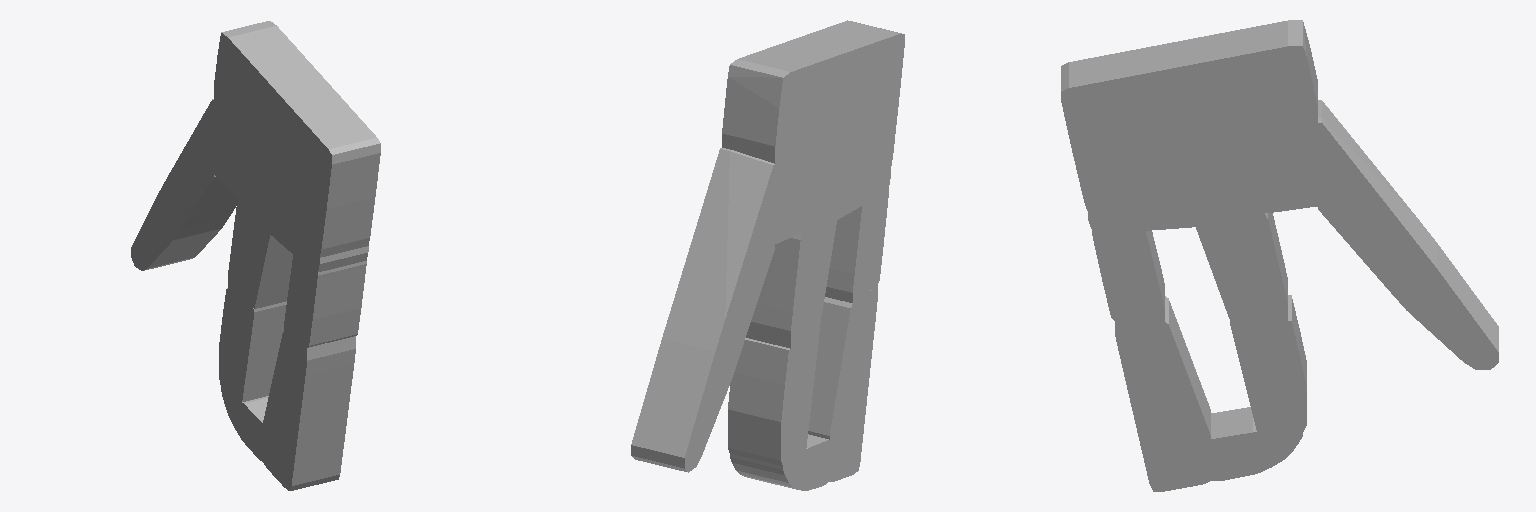
URDF robot description (root):
<robot name="root">
  <link name="link_2ef8bb988311eca37536da783d466469_convex_piece_0">
    <inertial>
      <origin rpy="0 0 0" xyz="0 0 0"/>
      <mass value="7.74E-07"/>
      <inertia ixx="1.40E-10" ixy="6.71E-13" ixz="1.32E-13" iyy="3.01E-11" iyz="4.56E-12" izz="1.15E-10"/>
    </inertial>
    <visual>
      <origin rpy="0 0 0" xyz="0 0 0"/>
      <geometry>
        <mesh filename="2ef8bb988311eca37536da783d466469_convex_piece_0.obj" scale="1.0000E+00"/>
      </geometry>
      <material name="">
        <color rgba="7.50E-01 7.50E-01 7.50E-01 1"/>
      </material>
    </visual>
    <collision>
      <origin rpy="0 0 0" xyz="0 0 0"/>
      <geometry>
        <mesh filename="2ef8bb988311eca37536da783d466469_convex_piece_0.obj" scale="1.0000E+00"/>
      </geometry>
    </collision>
  </link>
  <link name="link_2ef8bb988311eca37536da783d466469_convex_piece_1">
    <inertial>
      <origin rpy="0 0 0" xyz="0 0 0"/>
      <mass value="2.16E-06"/>
      <inertia ixx="7.16E-10" ixy="-1.08E-12" ixz="2.06E-12" iyy="5.22E-10" iyz="-2.21E-10" izz="2.09E-10"/>
    </inertial>
    <visual>
      <origin rpy="0 0 0" xyz="0 0 0"/>
      <geometry>
        <mesh filename="2ef8bb988311eca37536da783d466469_convex_piece_1.obj" scale="1.0000E+00"/>
      </geometry>
      <material name="">
        <color rgba="7.50E-01 7.50E-01 7.50E-01 1"/>
      </material>
    </visual>
    <collision>
      <origin rpy="0 0 0" xyz="0 0 0"/>
      <geometry>
        <mesh filename="2ef8bb988311eca37536da783d466469_convex_piece_1.obj" scale="1.0000E+00"/>
      </geometry>
    </collision>
  </link>
  <joint name="link_2ef8bb988311eca37536da783d466469_convex_piece_1_joint" type="fixed">
    <origin rpy="0 0 0" xyz="0 0 0"/>
    <parent link="link_2ef8bb988311eca37536da783d466469_convex_piece_0"/>
    <child link="link_2ef8bb988311eca37536da783d466469_convex_piece_1"/>
  </joint>
  <link name="link_2ef8bb988311eca37536da783d466469_convex_piece_2">
    <inertial>
      <origin rpy="0 0 0" xyz="0 0 0"/>
      <mass value="6.49E-07"/>
      <inertia ixx="2.52E-10" ixy="-4.83E-13" ixz="-6.76E-13" iyy="1.76E-10" iyz="1.32E-10" izz="8.08E-11"/>
    </inertial>
    <visual>
      <origin rpy="0 0 0" xyz="0 0 0"/>
      <geometry>
        <mesh filename="2ef8bb988311eca37536da783d466469_convex_piece_2.obj" scale="1.0000E+00"/>
      </geometry>
      <material name="">
        <color rgba="7.50E-01 7.50E-01 7.50E-01 1"/>
      </material>
    </visual>
    <collision>
      <origin rpy="0 0 0" xyz="0 0 0"/>
      <geometry>
        <mesh filename="2ef8bb988311eca37536da783d466469_convex_piece_2.obj" scale="1.0000E+00"/>
      </geometry>
    </collision>
  </link>
  <joint name="link_2ef8bb988311eca37536da783d466469_convex_piece_2_joint" type="fixed">
    <origin rpy="0 0 0" xyz="0 0 0"/>
    <parent link="link_2ef8bb988311eca37536da783d466469_convex_piece_1"/>
    <child link="link_2ef8bb988311eca37536da783d466469_convex_piece_2"/>
  </joint>
  <link name="link_2ef8bb988311eca37536da783d466469_convex_piece_3">
    <inertial>
      <origin rpy="0 0 0" xyz="0 0 0"/>
      <mass value="4.42E-07"/>
      <inertia ixx="-4.57E-12" ixy="-9.09E-14" ixz="2.99E-15" iyy="1.33E-12" iyz="6.41E-12" izz="-2.89E-12"/>
    </inertial>
    <visual>
      <origin rpy="0 0 0" xyz="0 0 0"/>
      <geometry>
        <mesh filename="2ef8bb988311eca37536da783d466469_convex_piece_3.obj" scale="1.0000E+00"/>
      </geometry>
      <material name="">
        <color rgba="7.50E-01 7.50E-01 7.50E-01 1"/>
      </material>
    </visual>
    <collision>
      <origin rpy="0 0 0" xyz="0 0 0"/>
      <geometry>
        <mesh filename="2ef8bb988311eca37536da783d466469_convex_piece_3.obj" scale="1.0000E+00"/>
      </geometry>
    </collision>
  </link>
  <joint name="link_2ef8bb988311eca37536da783d466469_convex_piece_3_joint" type="fixed">
    <origin rpy="0 0 0" xyz="0 0 0"/>
    <parent link="link_2ef8bb988311eca37536da783d466469_convex_piece_2"/>
    <child link="link_2ef8bb988311eca37536da783d466469_convex_piece_3"/>
  </joint>
  <link name="link_2ef8bb988311eca37536da783d466469_convex_piece_4">
    <inertial>
      <origin rpy="0 0 0" xyz="0 0 0"/>
      <mass value="1.95E-07"/>
      <inertia ixx="8.31E-11" ixy="-3.24E-14" ixz="-2.71E-13" iyy="8.63E-11" iyz="1.66E-11" izz="-1.87E-12"/>
    </inertial>
    <visual>
      <origin rpy="0 0 0" xyz="0 0 0"/>
      <geometry>
        <mesh filename="2ef8bb988311eca37536da783d466469_convex_piece_4.obj" scale="1.0000E+00"/>
      </geometry>
      <material name="">
        <color rgba="7.50E-01 7.50E-01 7.50E-01 1"/>
      </material>
    </visual>
    <collision>
      <origin rpy="0 0 0" xyz="0 0 0"/>
      <geometry>
        <mesh filename="2ef8bb988311eca37536da783d466469_convex_piece_4.obj" scale="1.0000E+00"/>
      </geometry>
    </collision>
  </link>
  <joint name="link_2ef8bb988311eca37536da783d466469_convex_piece_4_joint" type="fixed">
    <origin rpy="0 0 0" xyz="0 0 0"/>
    <parent link="link_2ef8bb988311eca37536da783d466469_convex_piece_3"/>
    <child link="link_2ef8bb988311eca37536da783d466469_convex_piece_4"/>
  </joint>
  <link name="link_2ef8bb988311eca37536da783d466469_convex_piece_5">
    <inertial>
      <origin rpy="0 0 0" xyz="0 0 0"/>
      <mass value="3.95E-07"/>
      <inertia ixx="4.90E-11" ixy="-7.15E-15" ixz="-3.20E-13" iyy="5.99E-11" iyz="1.02E-11" izz="-8.23E-12"/>
    </inertial>
    <visual>
      <origin rpy="0 0 0" xyz="0 0 0"/>
      <geometry>
        <mesh filename="2ef8bb988311eca37536da783d466469_convex_piece_5.obj" scale="1.0000E+00"/>
      </geometry>
      <material name="">
        <color rgba="7.50E-01 7.50E-01 7.50E-01 1"/>
      </material>
    </visual>
    <collision>
      <origin rpy="0 0 0" xyz="0 0 0"/>
      <geometry>
        <mesh filename="2ef8bb988311eca37536da783d466469_convex_piece_5.obj" scale="1.0000E+00"/>
      </geometry>
    </collision>
  </link>
  <joint name="link_2ef8bb988311eca37536da783d466469_convex_piece_5_joint" type="fixed">
    <origin rpy="0 0 0" xyz="0 0 0"/>
    <parent link="link_2ef8bb988311eca37536da783d466469_convex_piece_4"/>
    <child link="link_2ef8bb988311eca37536da783d466469_convex_piece_5"/>
  </joint>
  <link name="link_2ef8bb988311eca37536da783d466469_convex_piece_6">
    <inertial>
      <origin rpy="0 0 0" xyz="0 0 0"/>
      <mass value="2.99E-07"/>
      <inertia ixx="6.46E-11" ixy="-2.93E-13" ixz="-2.14E-14" iyy="-4.45E-14" iyz="8.94E-12" izz="6.67E-11"/>
    </inertial>
    <visual>
      <origin rpy="0 0 0" xyz="0 0 0"/>
      <geometry>
        <mesh filename="2ef8bb988311eca37536da783d466469_convex_piece_6.obj" scale="1.0000E+00"/>
      </geometry>
      <material name="">
        <color rgba="7.50E-01 7.50E-01 7.50E-01 1"/>
      </material>
    </visual>
    <collision>
      <origin rpy="0 0 0" xyz="0 0 0"/>
      <geometry>
        <mesh filename="2ef8bb988311eca37536da783d466469_convex_piece_6.obj" scale="1.0000E+00"/>
      </geometry>
    </collision>
  </link>
  <joint name="link_2ef8bb988311eca37536da783d466469_convex_piece_6_joint" type="fixed">
    <origin rpy="0 0 0" xyz="0 0 0"/>
    <parent link="link_2ef8bb988311eca37536da783d466469_convex_piece_5"/>
    <child link="link_2ef8bb988311eca37536da783d466469_convex_piece_6"/>
  </joint>
  <link name="link_2ef8bb988311eca37536da783d466469_convex_piece_7">
    <inertial>
      <origin rpy="0 0 0" xyz="0 0 0"/>
      <mass value="1.06E-07"/>
      <inertia ixx="2.19E-11" ixy="-9.55E-14" ixz="3.51E-14" iyy="2.14E-12" iyz="-6.26E-12" izz="2.05E-11"/>
    </inertial>
    <visual>
      <origin rpy="0 0 0" xyz="0 0 0"/>
      <geometry>
        <mesh filename="2ef8bb988311eca37536da783d466469_convex_piece_7.obj" scale="1.0000E+00"/>
      </geometry>
      <material name="">
        <color rgba="7.50E-01 7.50E-01 7.50E-01 1"/>
      </material>
    </visual>
    <collision>
      <origin rpy="0 0 0" xyz="0 0 0"/>
      <geometry>
        <mesh filename="2ef8bb988311eca37536da783d466469_convex_piece_7.obj" scale="1.0000E+00"/>
      </geometry>
    </collision>
  </link>
  <joint name="link_2ef8bb988311eca37536da783d466469_convex_piece_7_joint" type="fixed">
    <origin rpy="0 0 0" xyz="0 0 0"/>
    <parent link="link_2ef8bb988311eca37536da783d466469_convex_piece_6"/>
    <child link="link_2ef8bb988311eca37536da783d466469_convex_piece_7"/>
  </joint>
</robot>

--- What the picture shows (computed from the rendered views, not written in the file) ---
Views: 3 orthographic renders of the robot side by side, from view 1: azimuth 30°, elevation 25°; view 2: azimuth 150°, elevation 25°; view 3: azimuth 270°, elevation 25°.
Model root with 8 links and 7 joints (7 fixed), rooted at link_2ef8bb988311eca37536da783d466469_convex_piece_0, posed all joints at 0.
Visible links, largest first — view 1: link_2ef8bb988311eca37536da783d466469_convex_piece_1, link_2ef8bb988311eca37536da783d466469_convex_piece_2, link_2ef8bb988311eca37536da783d466469_convex_piece_0, link_2ef8bb988311eca37536da783d466469_convex_piece_6, link_2ef8bb988311eca37536da783d466469_convex_piece_5, link_2ef8bb988311eca37536da783d466469_convex_piece_3, link_2ef8bb988311eca37536da783d466469_convex_piece_4, link_2ef8bb988311eca37536da783d466469_convex_piece_7; view 2: link_2ef8bb988311eca37536da783d466469_convex_piece_1, link_2ef8bb988311eca37536da783d466469_convex_piece_0, link_2ef8bb988311eca37536da783d466469_convex_piece_5, link_2ef8bb988311eca37536da783d466469_convex_piece_2, link_2ef8bb988311eca37536da783d466469_convex_piece_3, link_2ef8bb988311eca37536da783d466469_convex_piece_6, link_2ef8bb988311eca37536da783d466469_convex_piece_4, link_2ef8bb988311eca37536da783d466469_convex_piece_7; view 3: link_2ef8bb988311eca37536da783d466469_convex_piece_1, link_2ef8bb988311eca37536da783d466469_convex_piece_0, link_2ef8bb988311eca37536da783d466469_convex_piece_2, link_2ef8bb988311eca37536da783d466469_convex_piece_3, link_2ef8bb988311eca37536da783d466469_convex_piece_5, link_2ef8bb988311eca37536da783d466469_convex_piece_6, link_2ef8bb988311eca37536da783d466469_convex_piece_4, link_2ef8bb988311eca37536da783d466469_convex_piece_7.
Link boxes in pixels (bbox=[...]): link_2ef8bb988311eca37536da783d466469_convex_piece_1: bbox=[214, 21, 380, 257]; link_2ef8bb988311eca37536da783d466469_convex_piece_2: bbox=[263, 331, 355, 490]; link_2ef8bb988311eca37536da783d466469_convex_piece_0: bbox=[131, 99, 237, 270]; link_2ef8bb988311eca37536da783d466469_convex_piece_6: bbox=[284, 255, 366, 347]; link_2ef8bb988311eca37536da783d466469_convex_piece_5: bbox=[219, 288, 286, 401]; link_2ef8bb988311eca37536da783d466469_convex_piece_3: bbox=[228, 199, 292, 308]; link_2ef8bb988311eca37536da783d466469_convex_piece_4: bbox=[221, 387, 268, 461]; link_2ef8bb988311eca37536da783d466469_convex_piece_7: bbox=[270, 222, 368, 271]; link_2ef8bb988311eca37536da783d466469_convex_piece_1: bbox=[722, 20, 904, 243]; link_2ef8bb988311eca37536da783d466469_convex_piece_0: bbox=[631, 148, 774, 472]; link_2ef8bb988311eca37536da783d466469_convex_piece_5: bbox=[728, 328, 819, 465]; link_2ef8bb988311eca37536da783d466469_convex_piece_2: bbox=[808, 285, 877, 481]; link_2ef8bb988311eca37536da783d466469_convex_piece_3: bbox=[746, 207, 836, 348]; link_2ef8bb988311eca37536da783d466469_convex_piece_6: bbox=[825, 186, 888, 302]; link_2ef8bb988311eca37536da783d466469_convex_piece_4: bbox=[730, 434, 829, 490]; link_2ef8bb988311eca37536da783d466469_convex_piece_7: bbox=[837, 167, 890, 219]; link_2ef8bb988311eca37536da783d466469_convex_piece_1: bbox=[1061, 20, 1317, 212]; link_2ef8bb988311eca37536da783d466469_convex_piece_0: bbox=[1318, 100, 1498, 369]; link_2ef8bb988311eca37536da783d466469_convex_piece_2: bbox=[1115, 296, 1210, 491]; link_2ef8bb988311eca37536da783d466469_convex_piece_3: bbox=[1196, 213, 1287, 320]; link_2ef8bb988311eca37536da783d466469_convex_piece_5: bbox=[1230, 295, 1306, 431]; link_2ef8bb988311eca37536da783d466469_convex_piece_6: bbox=[1092, 231, 1164, 320]; link_2ef8bb988311eca37536da783d466469_convex_piece_4: bbox=[1211, 407, 1302, 480]; link_2ef8bb988311eca37536da783d466469_convex_piece_7: bbox=[1088, 213, 1195, 230].
Bounding box of the posed robot: 0.0064 × 0.0455 × 0.0511 m (x, y, z).
Meshes: 8 distinct files referenced, 8 mesh visuals loaded (8 OBJ).